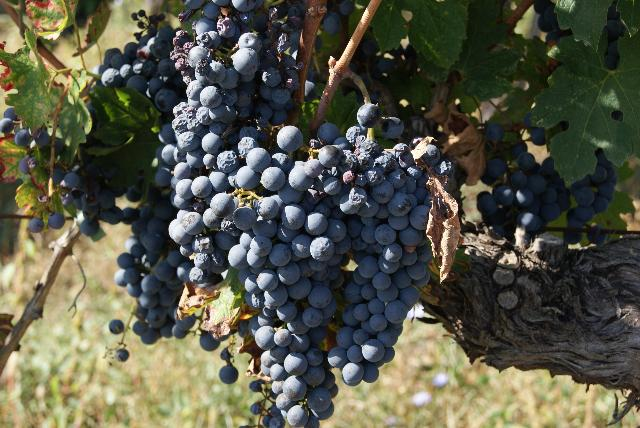grapes: (226, 161, 388, 420), (339, 144, 432, 385)
